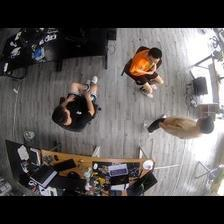normal: (49, 73, 103, 134), (144, 108, 215, 147), (119, 44, 162, 96)
